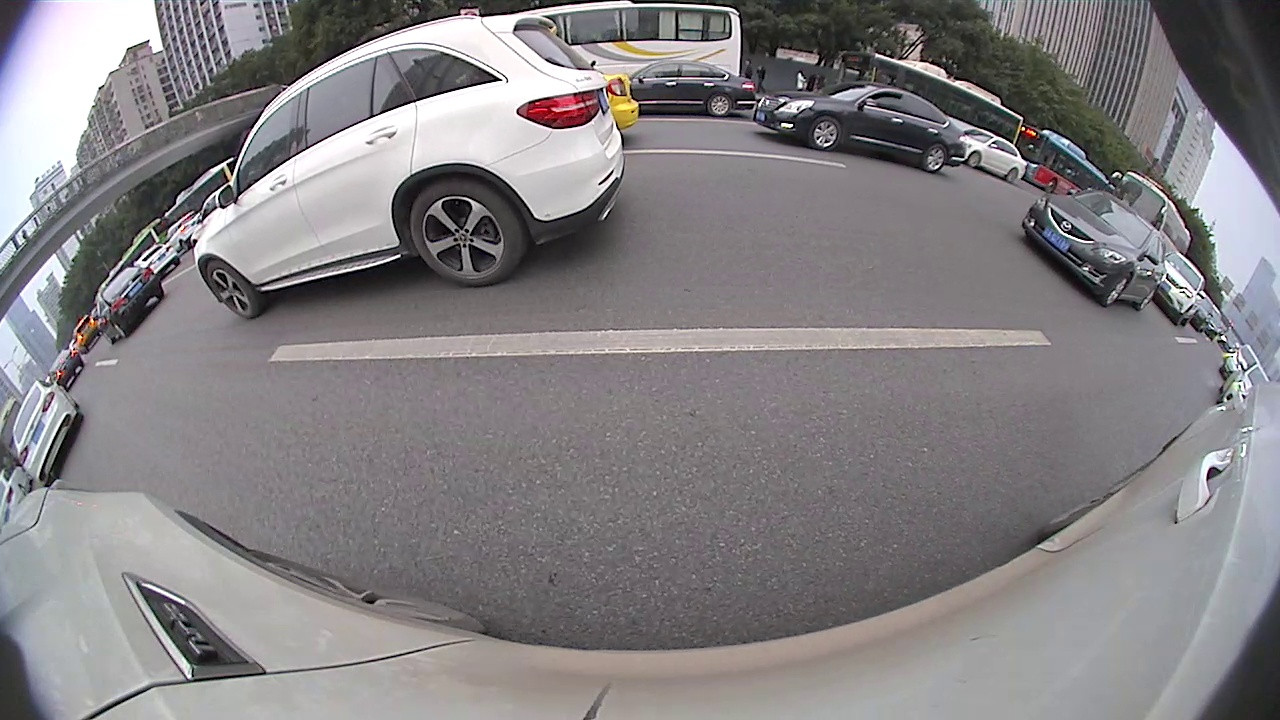bus: (830, 45, 1021, 153), (502, 0, 741, 85), (1103, 168, 1189, 260)
car: (192, 16, 631, 319), (754, 77, 970, 176), (1018, 188, 1165, 313), (623, 59, 760, 119), (11, 376, 85, 485), (90, 264, 166, 346), (954, 125, 1027, 186), (1154, 244, 1208, 326), (46, 350, 86, 389)
front: (204, 261, 256, 318), (810, 117, 841, 149), (1102, 275, 1131, 307), (969, 152, 981, 168)
rear: (412, 181, 519, 286), (923, 143, 947, 173), (707, 94, 732, 116), (1005, 167, 1020, 185)
